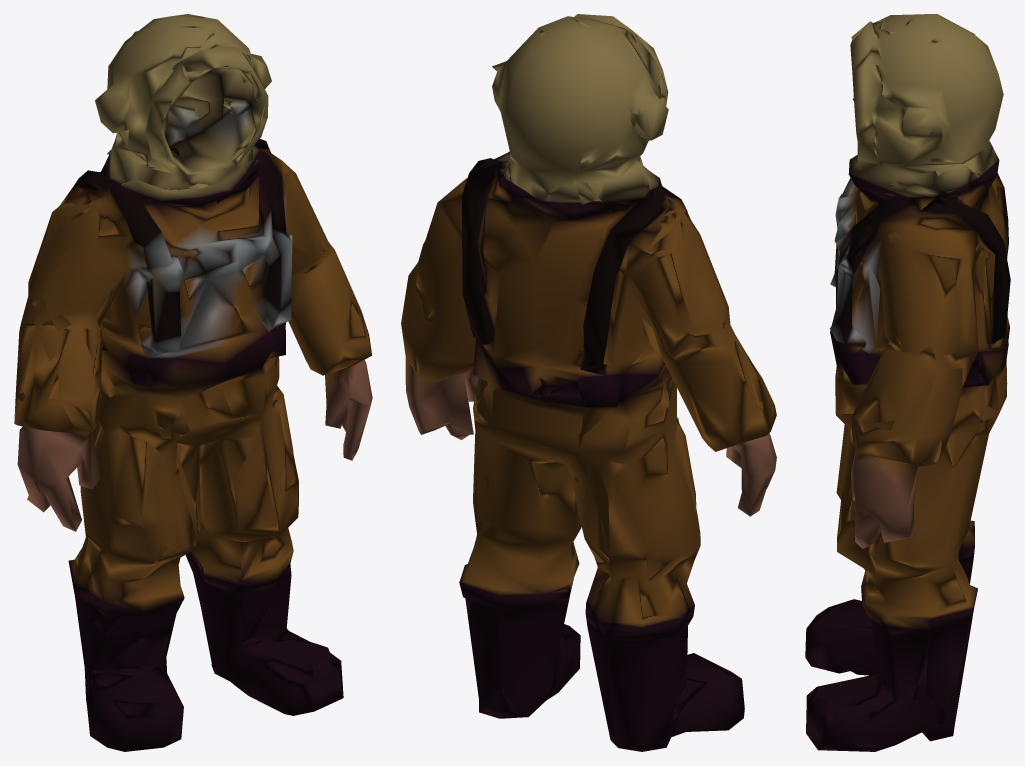
Rendered from gen3d-deep-sea-diver-lod0.glb.
3 renders of one model, left to right at view 1: azimuth 30°, elevation 25°; view 2: azimuth 150°, elevation 25°; view 3: azimuth 270°, elevation 25°, orthographic. The views are drawn at different scales.
Visible parts, largest first — view 1: part_0; view 2: part_0; view 3: part_0.
Part boxes in pixels (x1,y1,x2,y2): part_0: (14, 14, 372, 751); part_0: (401, 14, 776, 751); part_0: (805, 14, 1010, 751).
Size of the model in its own units: 0.544 by 0.9989 by 0.2735.
